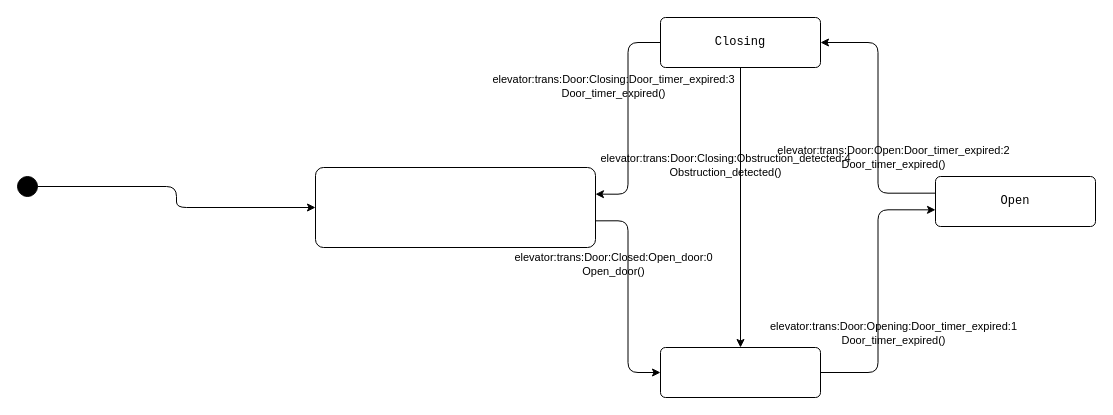
This 1113x415 diagram has some shape labels left out. Each missing label, with the box of its shape:
Closed ────────────────── entry / generate Door_closed to r1_elevator_id;: (314, 166, 596, 248)
Opening: (660, 346, 820, 398)
